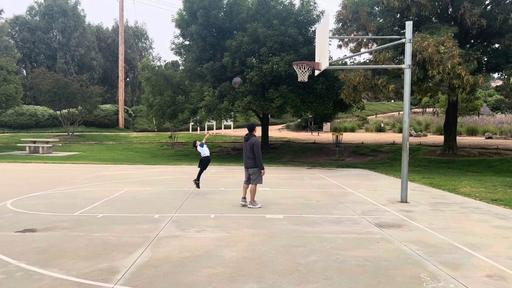ball: (233, 78, 243, 88)
human: (240, 123, 264, 208), (194, 132, 216, 189)
rim: (292, 61, 320, 82)
